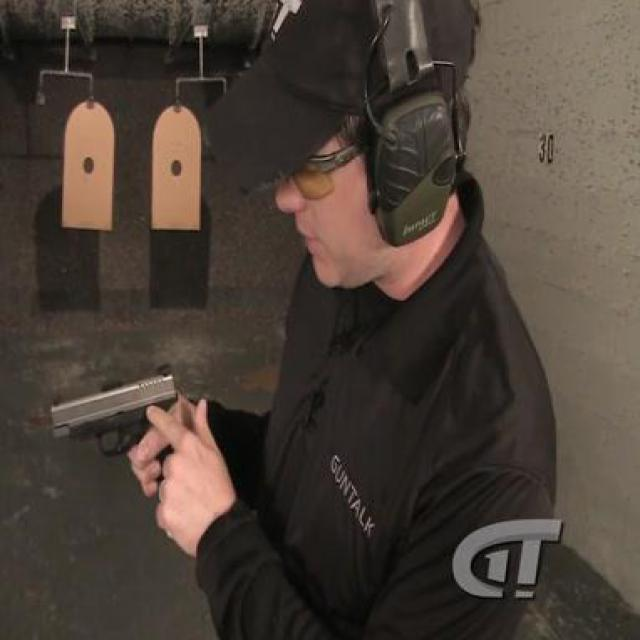gun: (45, 364, 186, 491)
